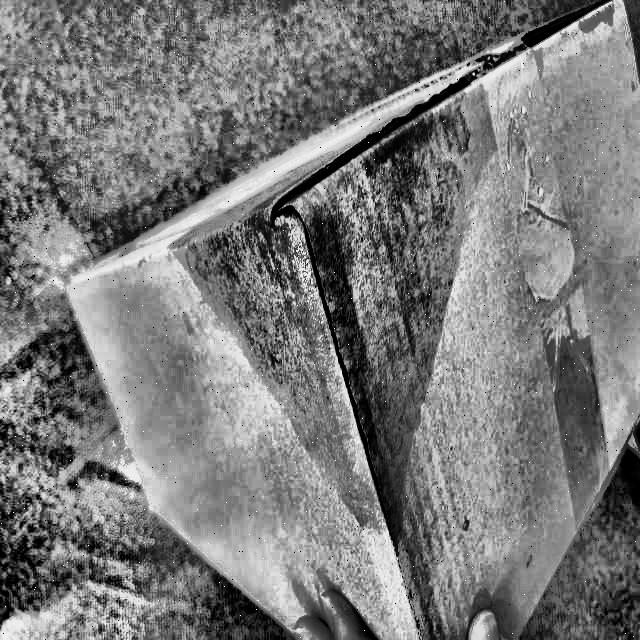box: (56, 0, 636, 640)
wet: (176, 74, 499, 533)
